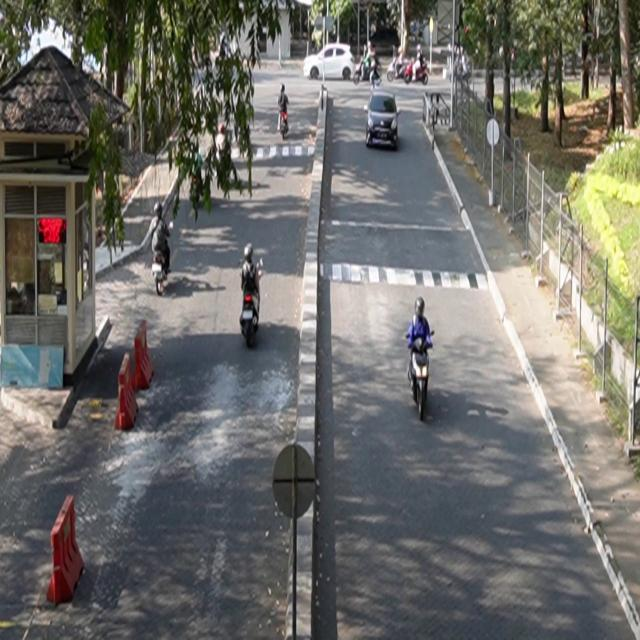car: (365, 90, 402, 150), (304, 44, 356, 82)
